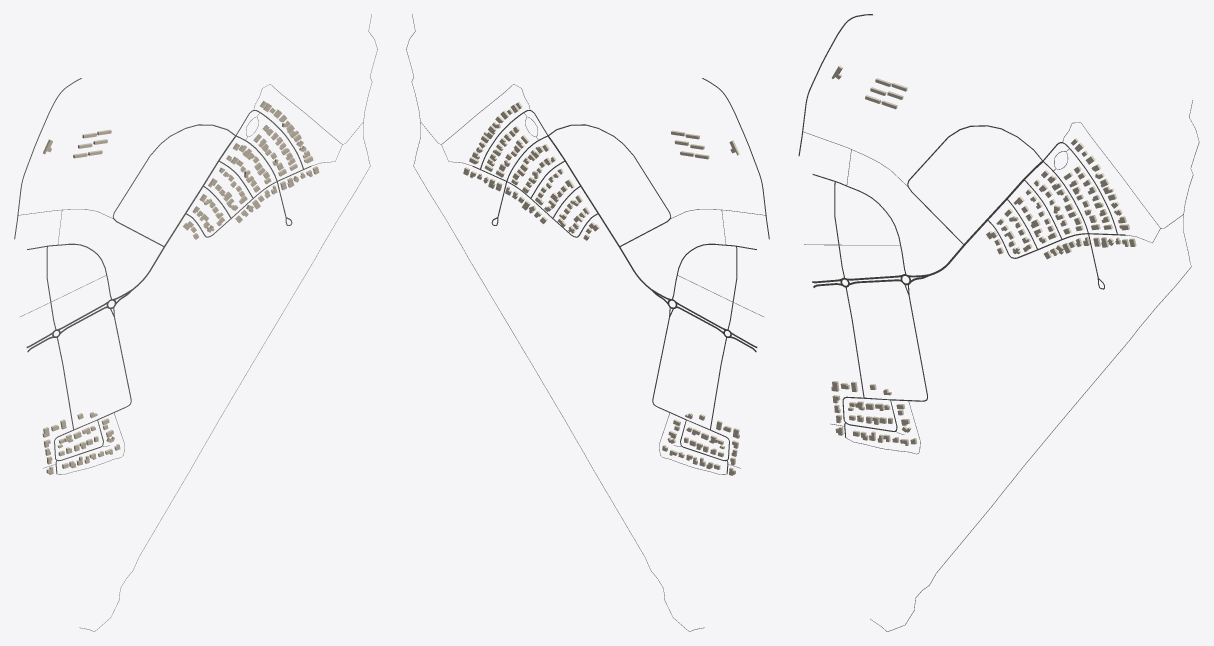
Rendered from historic-palestine-07_30_3487_3240.glb.
3 views of the same model, side by side, from view 1: azimuth 30°, elevation 25°; view 2: azimuth 150°, elevation 25°; view 3: azimuth 330°, elevation 25° (orthographic). The views are drawn at different scales.
Parts seen in each view (by area): view 1: Road .004; view 2: Road .004; view 3: Road .004.
Boxes of the visible parts, left/top/right/bottom form: Road .004: left=79, top=14, right=377, bottom=631; Road .004: left=406, top=14, right=704, bottom=631; Road .004: left=870, top=100, right=1199, bottom=631.
Bounding box in the file's own units: 1155 × 1690 × 8.7.
